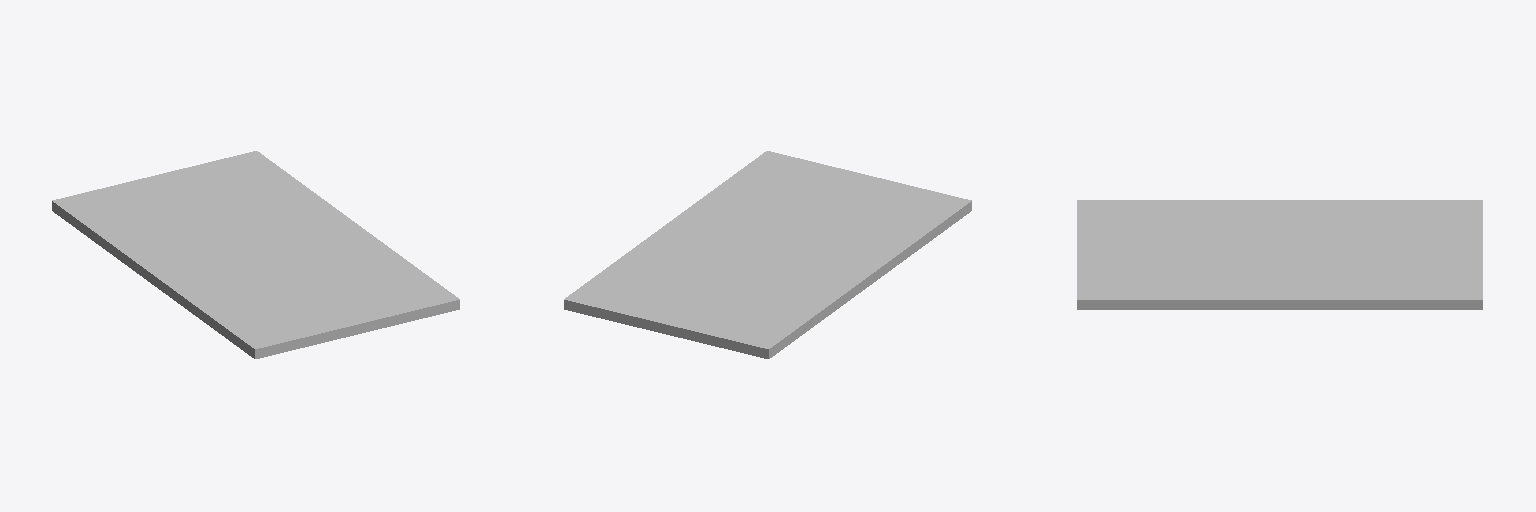
File: Dusche_Decke.obj
3 views of the same model, side by side, from view 1: azimuth 30°, elevation 25°; view 2: azimuth 150°, elevation 25°; view 3: azimuth 270°, elevation 25° (orthographic).
Parts seen in each view (by area): view 1: Mesh26 Component_745 G_15_Dusche_Decke_dwg1 Model, Mesh10 Component_742 G_15_Dusche_Decke_dwg1 Model; view 2: Mesh26 Component_745 G_15_Dusche_Decke_dwg1 Model, Mesh10 Component_742 G_15_Dusche_Decke_dwg1 Model; view 3: Mesh26 Component_745 G_15_Dusche_Decke_dwg1 Model, Mesh10 Component_742 G_15_Dusche_Decke_dwg1 Model.
Boxes of the visible parts, x1,y1,x2,y2 form: Mesh26 Component_745 G_15_Dusche_Decke_dwg1 Model: [52, 151, 459, 351]; Mesh10 Component_742 G_15_Dusche_Decke_dwg1 Model: [52, 204, 459, 358]; Mesh26 Component_745 G_15_Dusche_Decke_dwg1 Model: [564, 151, 971, 351]; Mesh10 Component_742 G_15_Dusche_Decke_dwg1 Model: [564, 204, 971, 358]; Mesh26 Component_745 G_15_Dusche_Decke_dwg1 Model: [1077, 200, 1482, 301]; Mesh10 Component_742 G_15_Dusche_Decke_dwg1 Model: [1077, 302, 1482, 309].
Bounding box in the file's own units: 94.39 × 5.21 × 162.